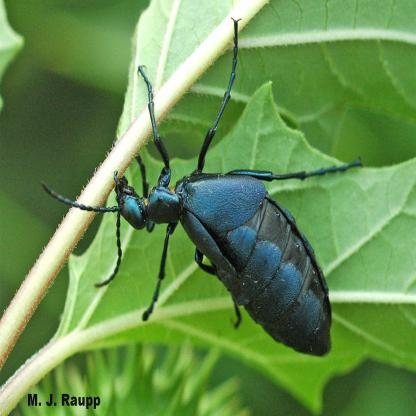blister beetle: (40, 21, 362, 359)
